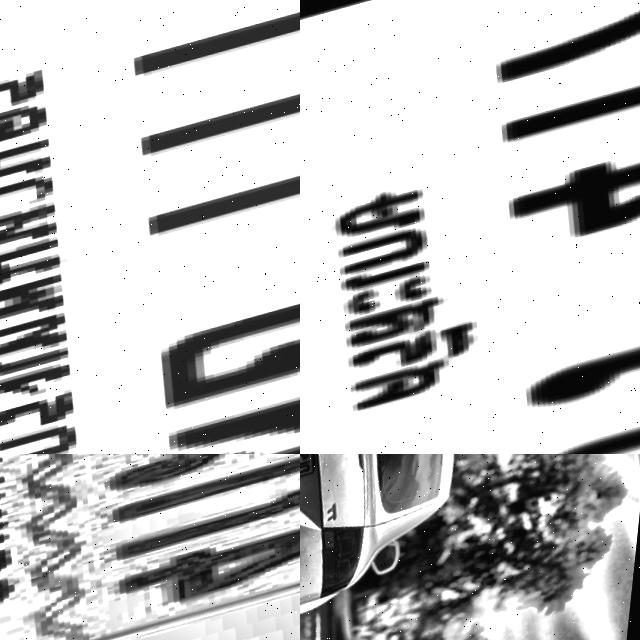license-plate: (300, 0, 640, 454), (0, 0, 300, 454), (0, 454, 300, 640), (300, 454, 333, 492)
